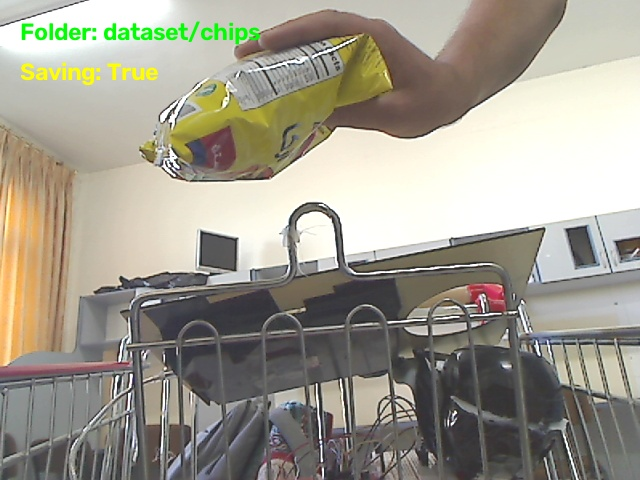chips: (140, 35, 391, 180)
